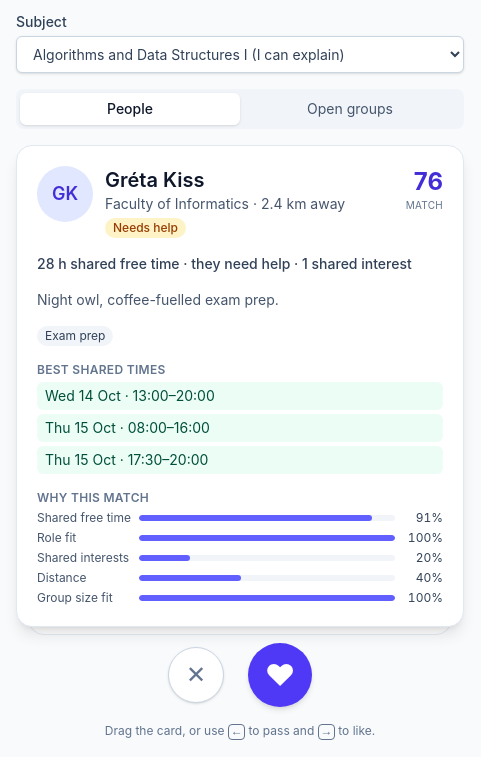
DiscoverPage › records a pass and shows the next person
(page scrolled)
Click the button named "Pass".
click(196, 675)  # box [168,647,224,703]
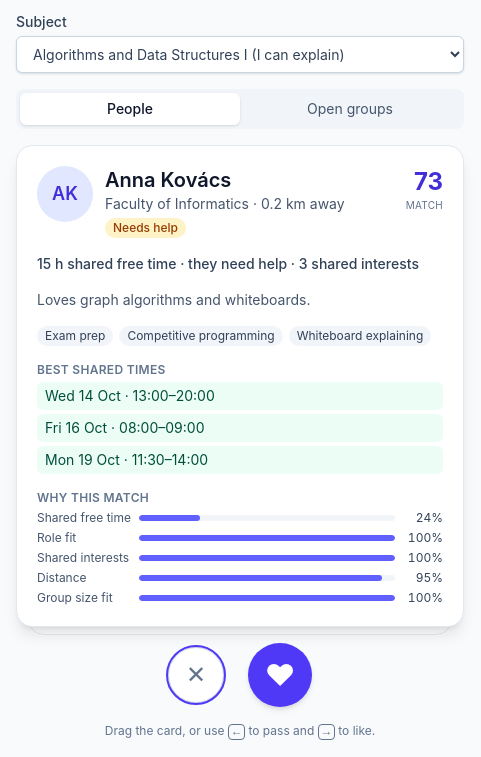
Result: the heading "Gréta Kiss" no longer shows "Gréta Kiss"
